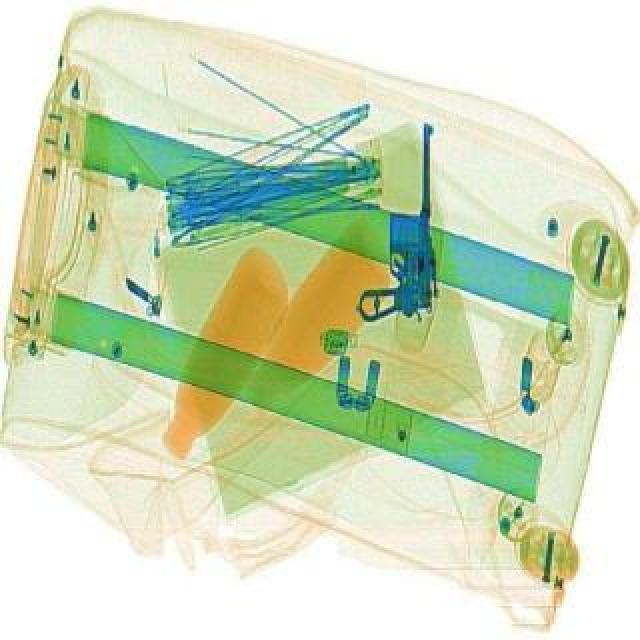gun: (352, 120, 436, 324)
